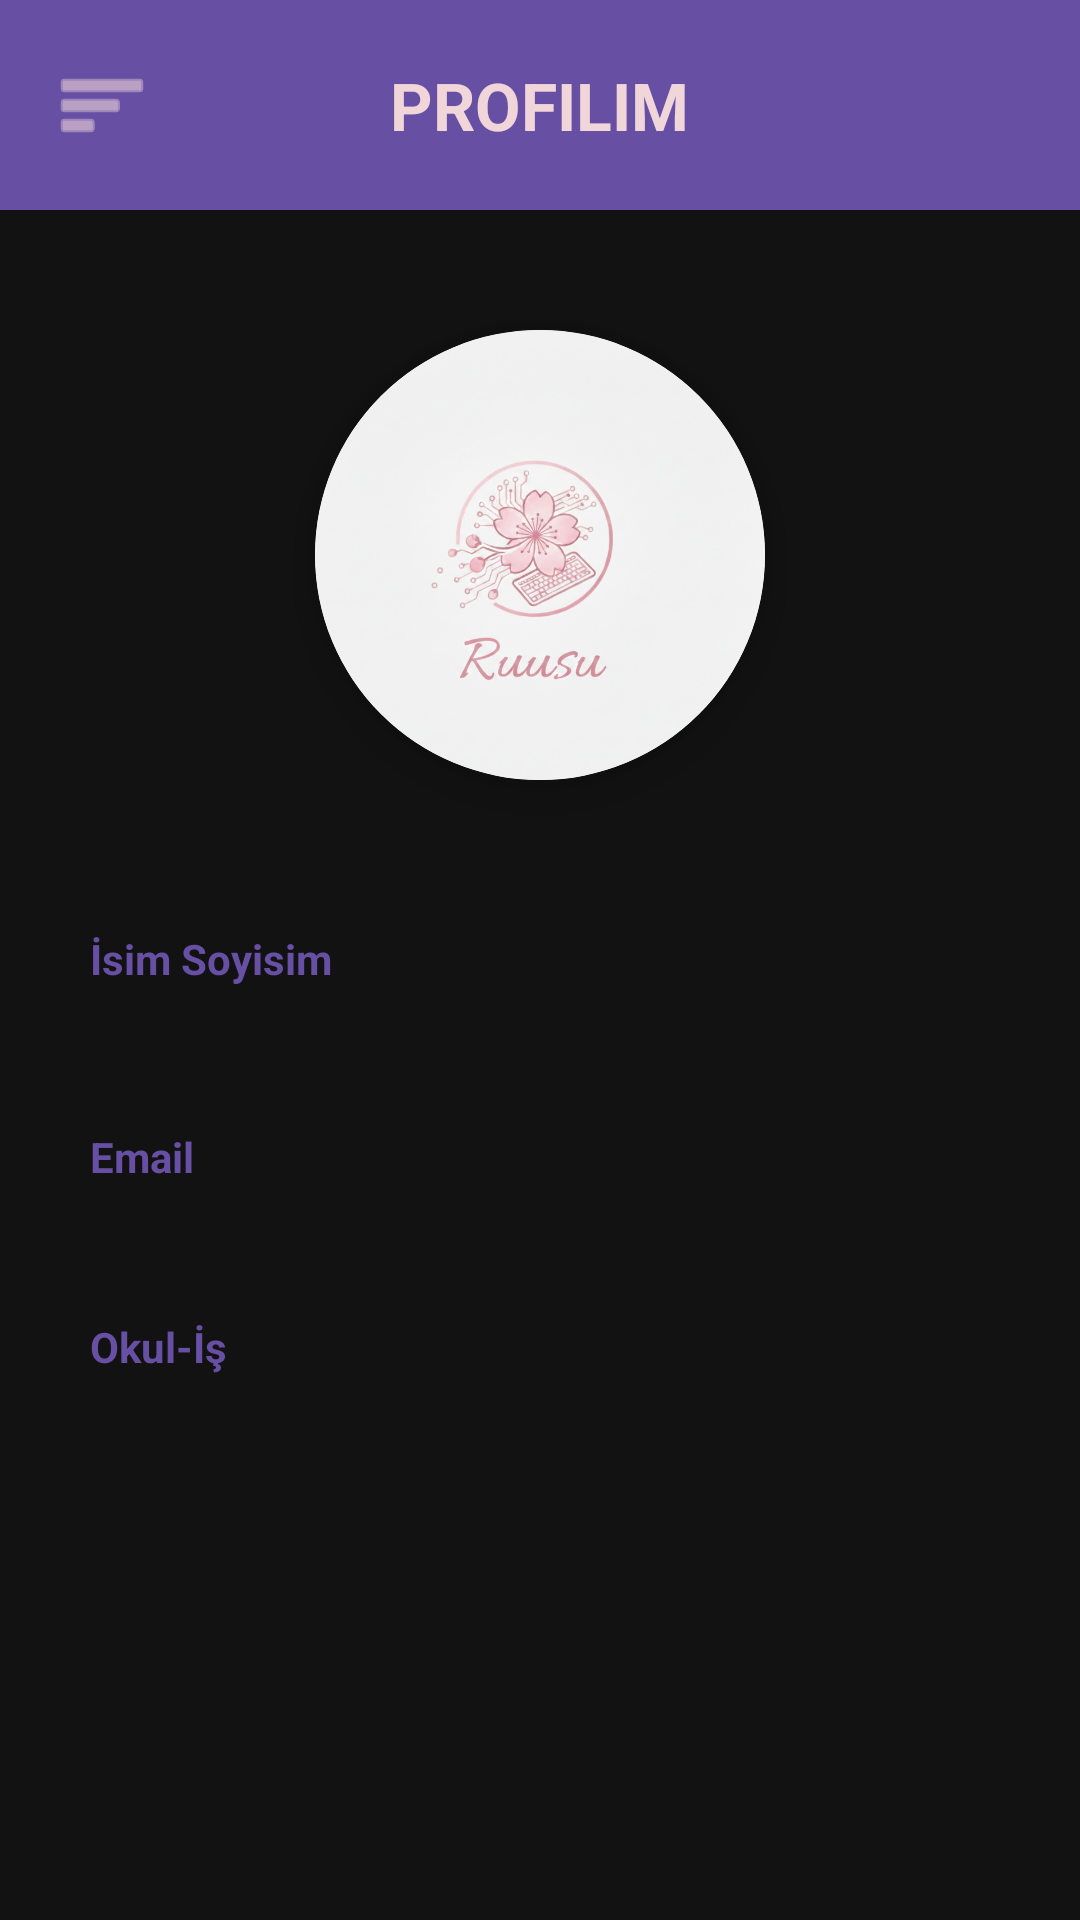

Icon click points for this 1080×1920 phone screenshot, format [x,y]:
Menü Aç: [102,105]
